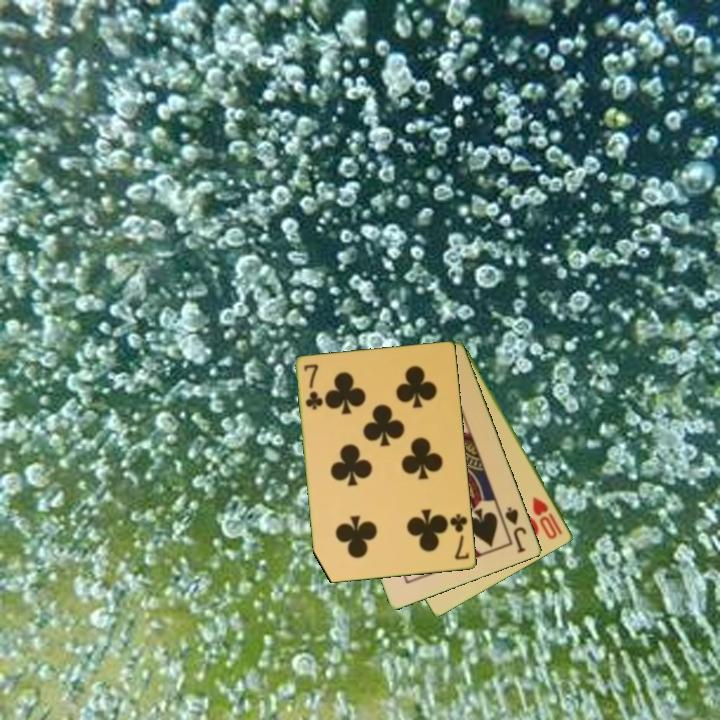10h: (529, 493, 566, 542)
7c: (447, 510, 472, 563), (301, 361, 325, 413)
Js: (502, 503, 530, 556)
